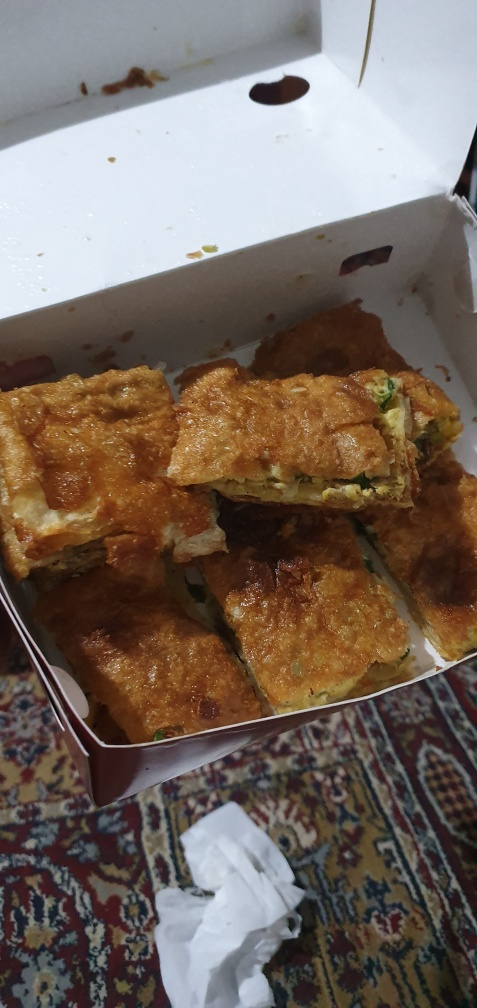martabak telor: (191, 511, 401, 727), (1, 363, 234, 553), (171, 350, 433, 510)
